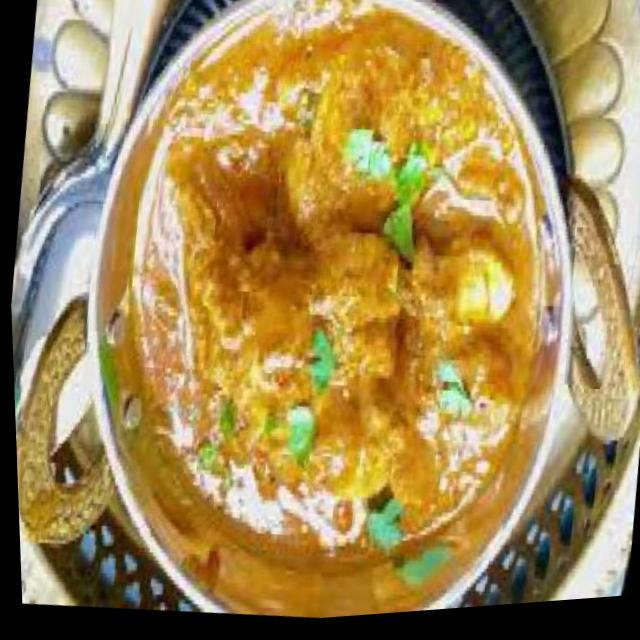CHICKEN CURRY: (135, 0, 546, 576)
